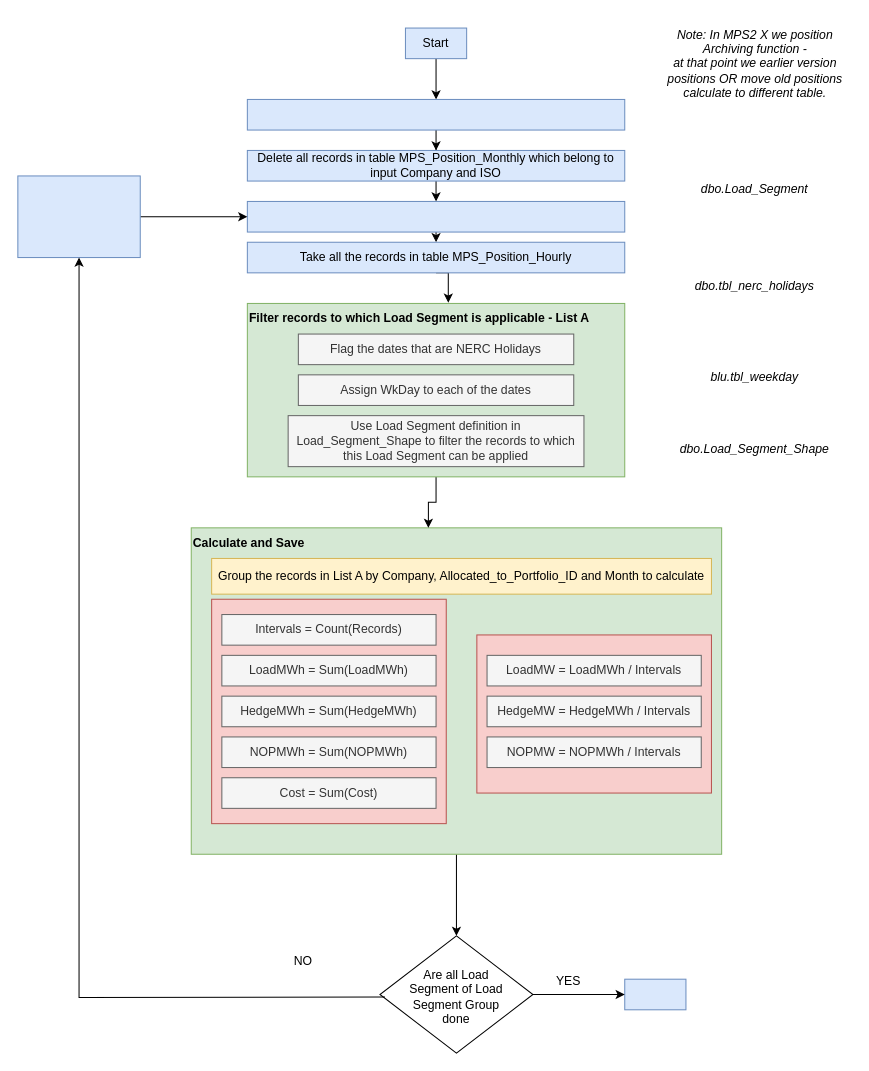
Image size: 869x1071. Some labels were removed from this diagram. Here are the shapes that lost their labels. From the top down, the centre of each, then its label:
(x=435, y=114): Provide inputs - Company Name, ISO adn Load Segment Group
(x=78, y=216): Take next Load Segment of Loaf Segment Group
(x=435, y=216): Take the first Load Segment of the Load_Segment_Group
(x=655, y=994): End
